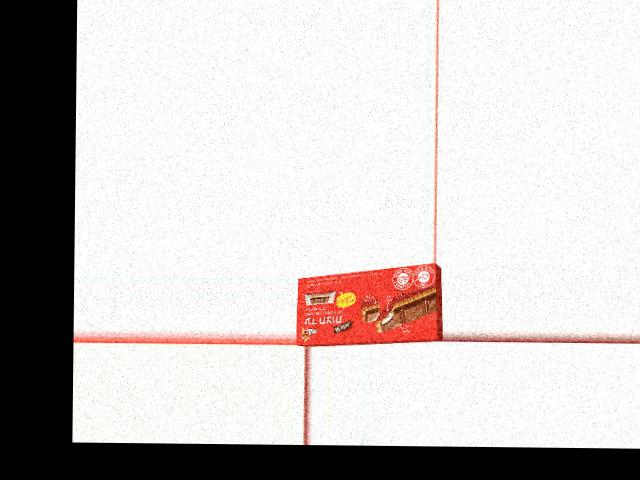chocolate: (295, 270, 441, 342)
